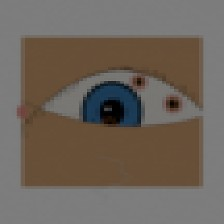foreign_body_visible: (151, 86, 195, 122)
